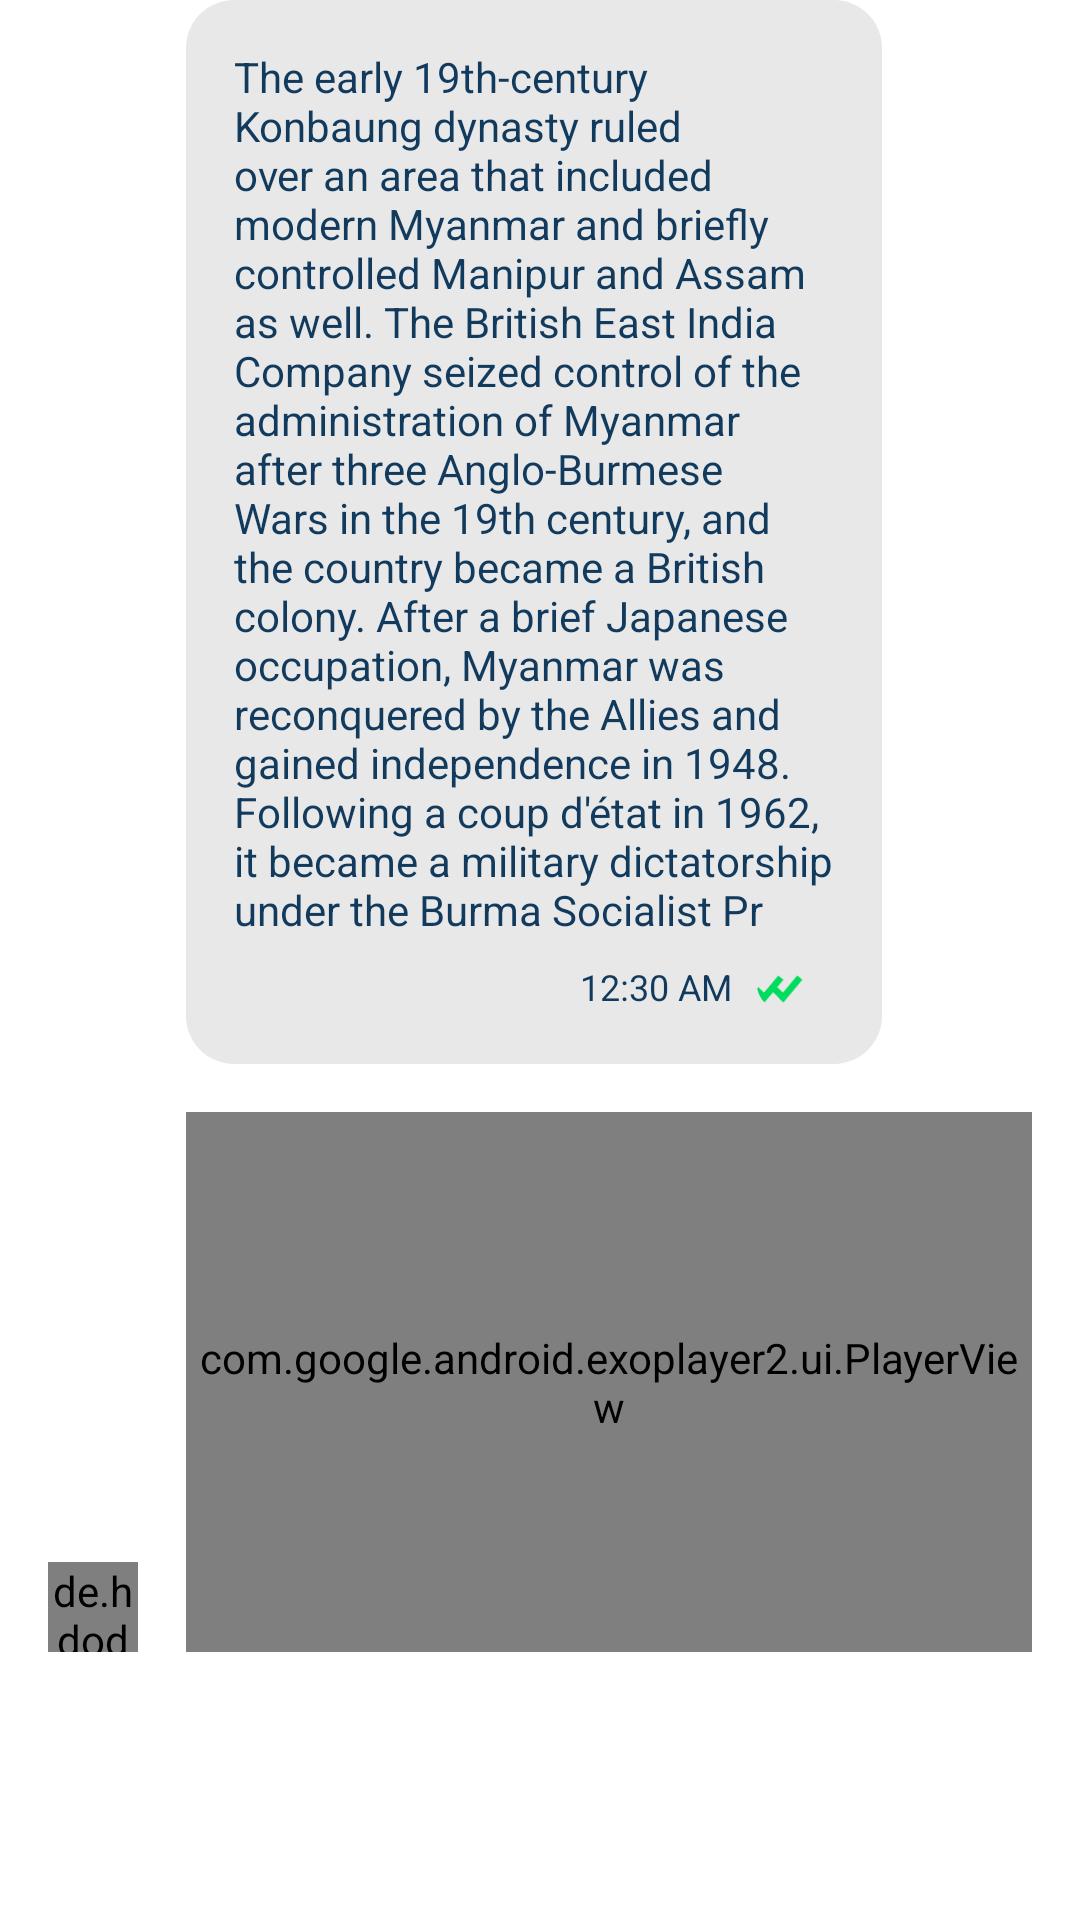

Icon click points for this 1080*1920 phone screenshot, format (x=x, y=y):
seen: (x=780, y=989)
